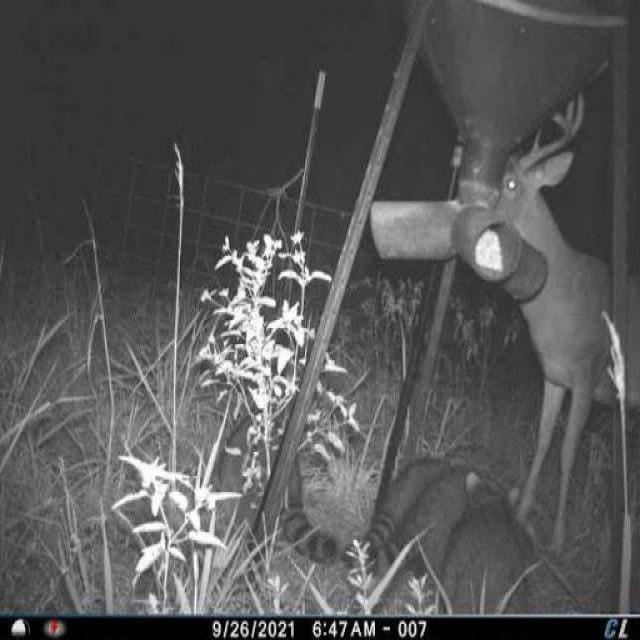deer: (456, 80, 640, 564)
